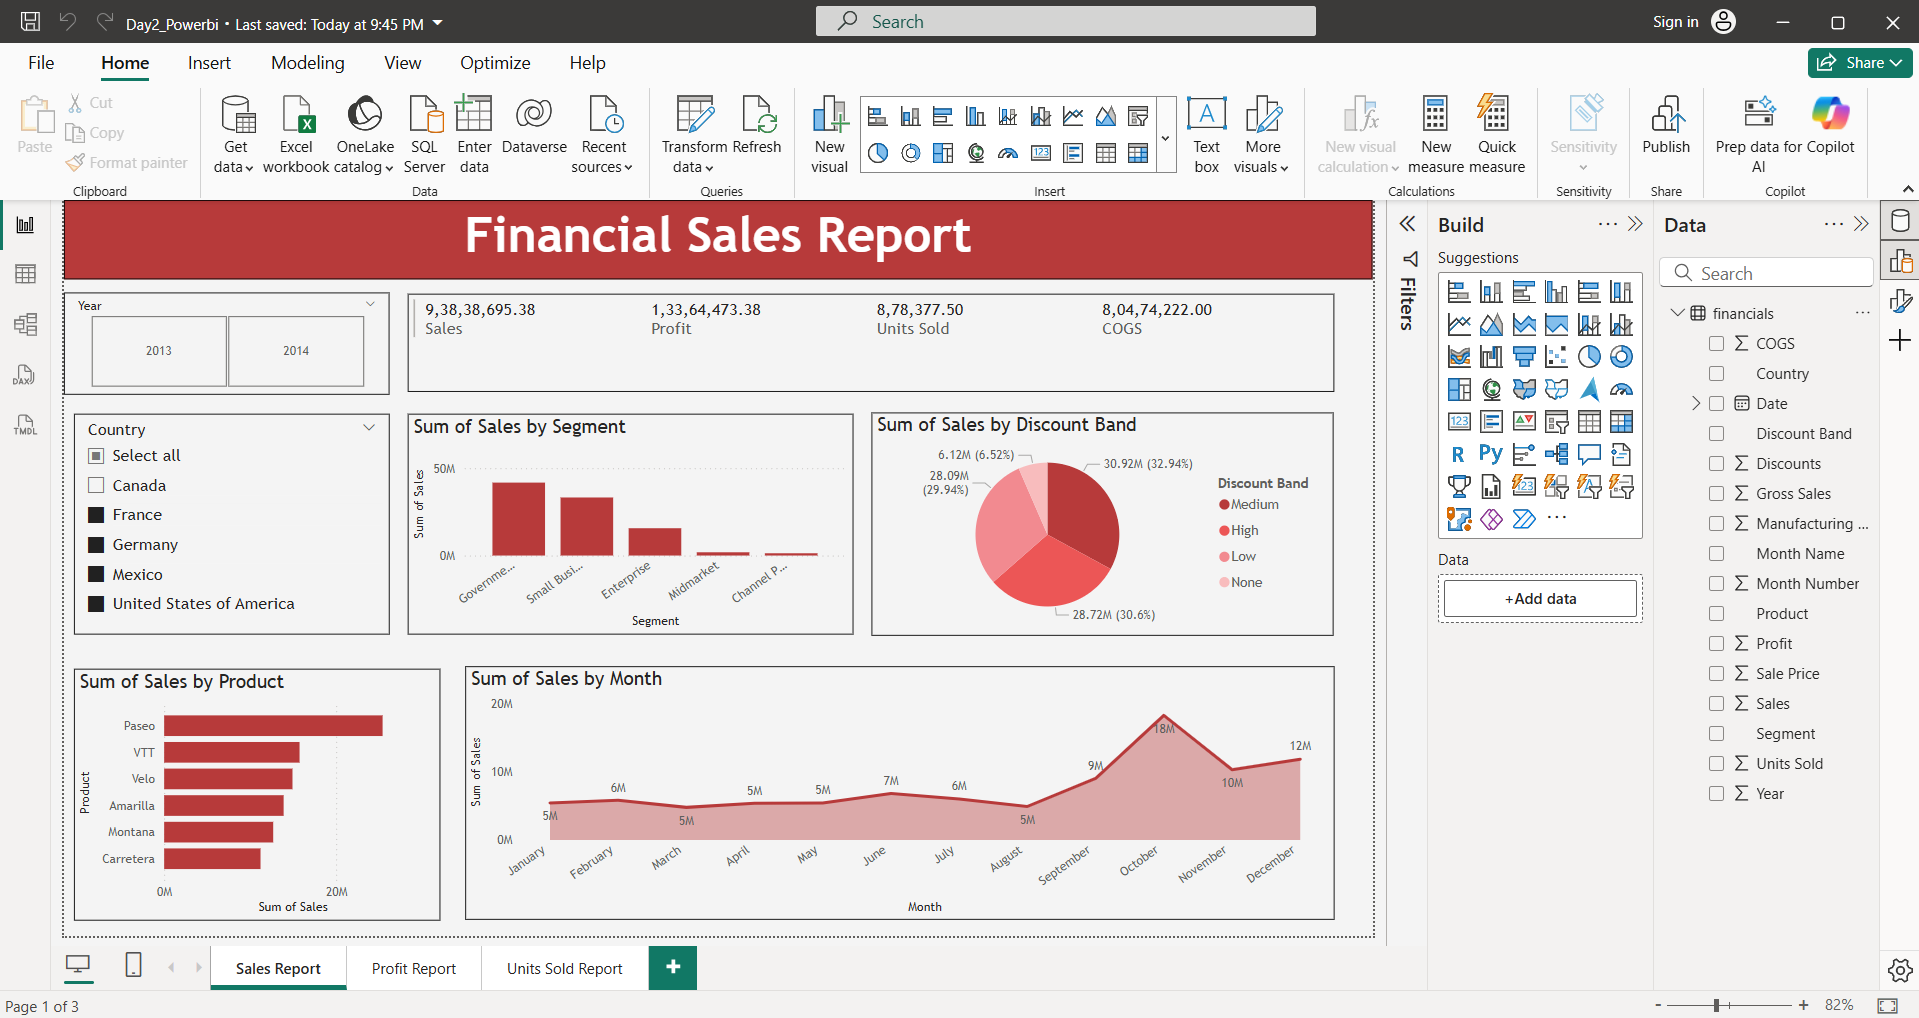

The page's visual inventory and layout, read from the dashboard file:
{"tool":"powerbi","page":{"name":"Sales Report","canvas":[1280,720],"ordinal":0},"visuals":[{"type":"multiRowCard","fields":{"Values":["Sum(financials.Sales)","Sum(financials.Profit)","Sum(financials.Units Sold)","Sum(financials.COGS)"]},"box":[336,92,906,96],"z":0},{"type":"slicer","fields":{"Values":["financials.Date.Variation.Date Hierarchy.Year"]},"box":[0,90,318,100],"z":1000},{"type":"textbox","box":[0,0,1280,77.5],"z":2000},{"type":"areaChart","fields":{"Category":["financials.Date.Variation.Date Hierarchy.Month"],"Y":["Sum(financials.Sales)"]},"box":[392,456,850,248],"z":3000},{"type":"slicer","fields":{"Values":["financials.Country"]},"box":[10,208.6,308.6,215.7],"z":4000},{"type":"clusteredColumnChart","fields":{"Y":["Sum(financials.Sales)"],"Category":["financials.Segment"]},"box":[335.7,208.6,435.7,215.7],"z":5000},{"type":"pieChart","fields":{"Y":["Sum(financials.Sales)"],"Category":["financials.Discount Band"]},"box":[790,208,452,218],"z":6000},{"type":"clusteredBarChart","fields":{"Y":["Sum(financials.Sales)"],"Category":["financials.Product"]},"box":[10,458,358,246],"z":7000}]}

Visuals, with their boxes on the page's 1280x720 design canvas (x1, y1, x2, y2). These are canvas units, not pixel positions in the 1919x1018 screenshot, which may show the page scaled, cropped or inside an application window:
multiRowCard - Sum(financials.Sales) x Sum(financials.Profit): <region>336, 92, 1242, 188</region>
slicer - financials.Date.Variation.Date Hierarchy.Year: <region>0, 90, 318, 190</region>
textbox: <region>0, 0, 1280, 78</region>
areaChart - financials.Date.Variation.Date Hierarchy.Month x Sum(financials.Sales): <region>392, 456, 1242, 704</region>
slicer - financials.Country: <region>10, 209, 319, 424</region>
clusteredColumnChart - Sum(financials.Sales) x financials.Segment: <region>336, 209, 771, 424</region>
pieChart - Sum(financials.Sales) x financials.Discount Band: <region>790, 208, 1242, 426</region>
clusteredBarChart - Sum(financials.Sales) x financials.Product: <region>10, 458, 368, 704</region>
